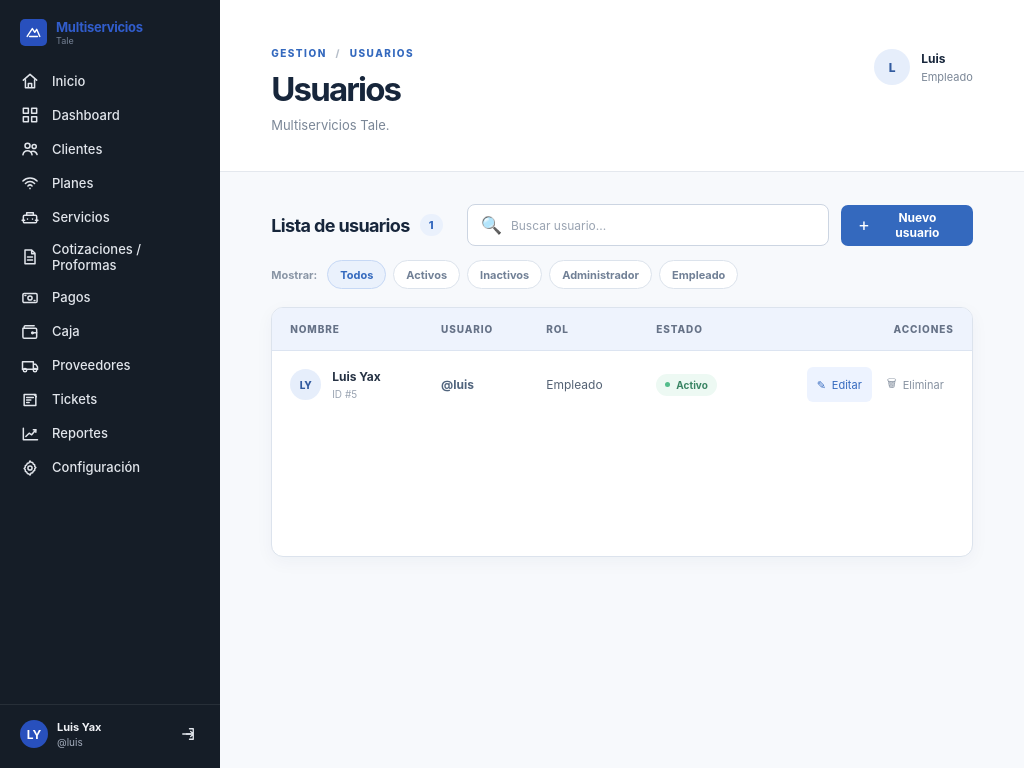
UsuariosComponent › abre Editar al hacer clic y carga los datos y permisos reales
Click the button titled "Editar usuario" at (839, 385), box top-left (807, 367), bottom-right (872, 402)
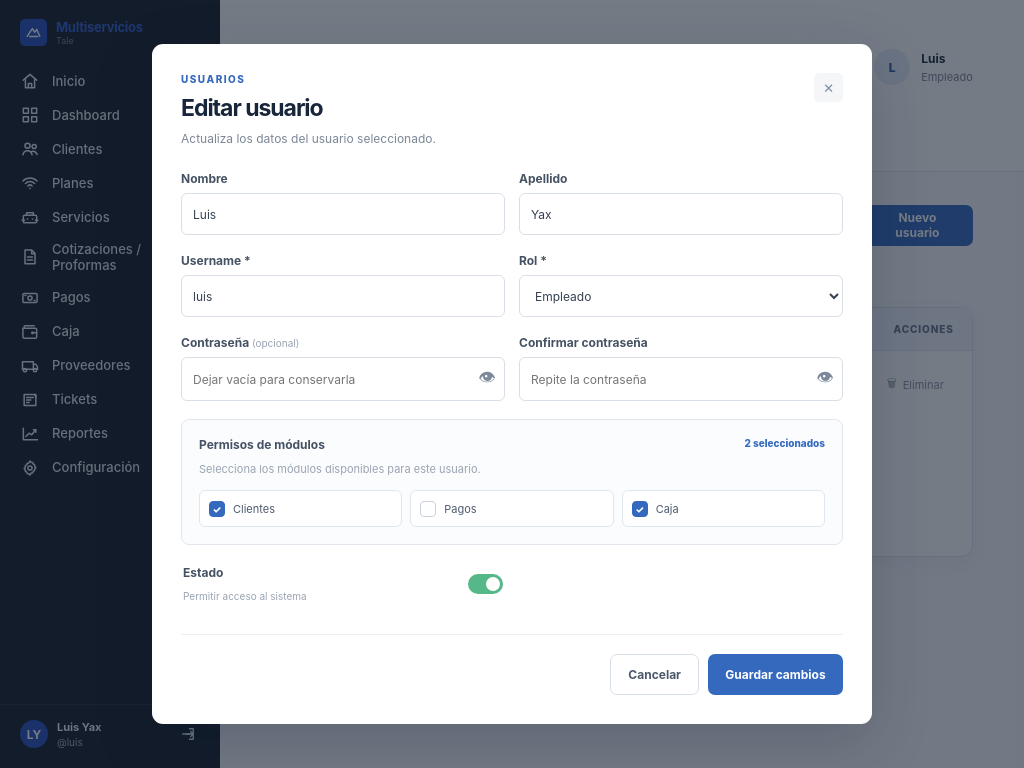
expect the field with id "name" is shown: met, box top-left (181, 193), bottom-right (505, 235)
